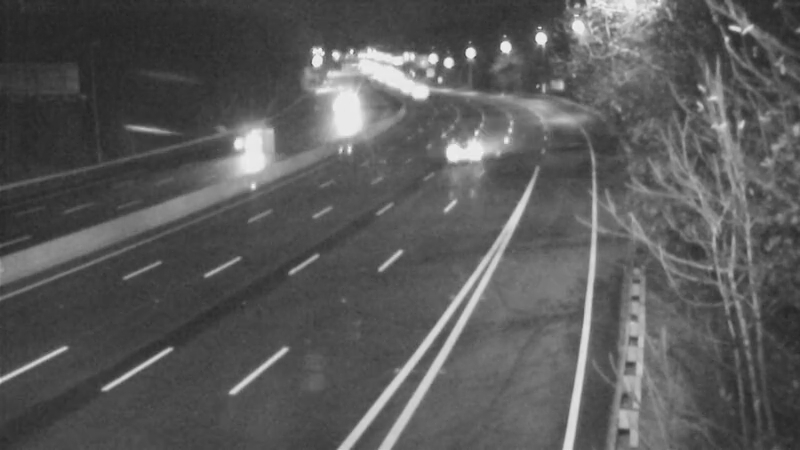vehicle: (420, 115, 500, 195), (400, 68, 450, 118), (222, 114, 272, 164), (329, 86, 379, 136)
